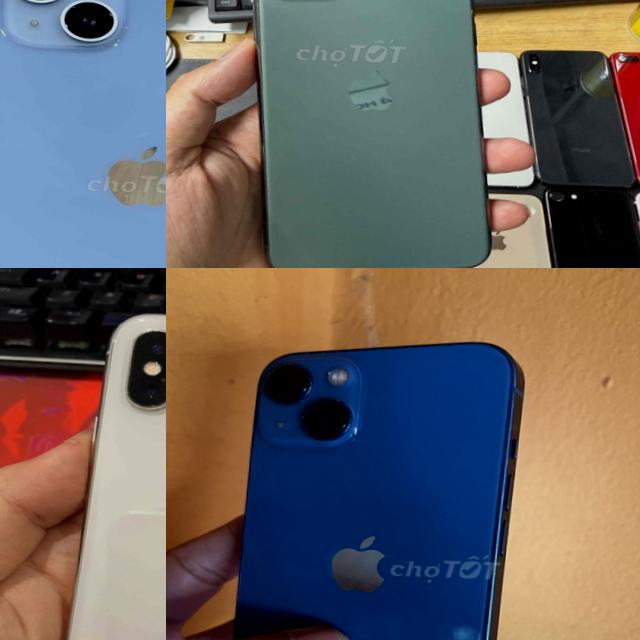gen_11: (234, 0, 509, 268)
gen_12_13: (212, 331, 527, 640)
gen_14: (0, 0, 166, 268)
gen_x_xs: (24, 304, 166, 640)
scratch: (136, 397, 166, 411)
